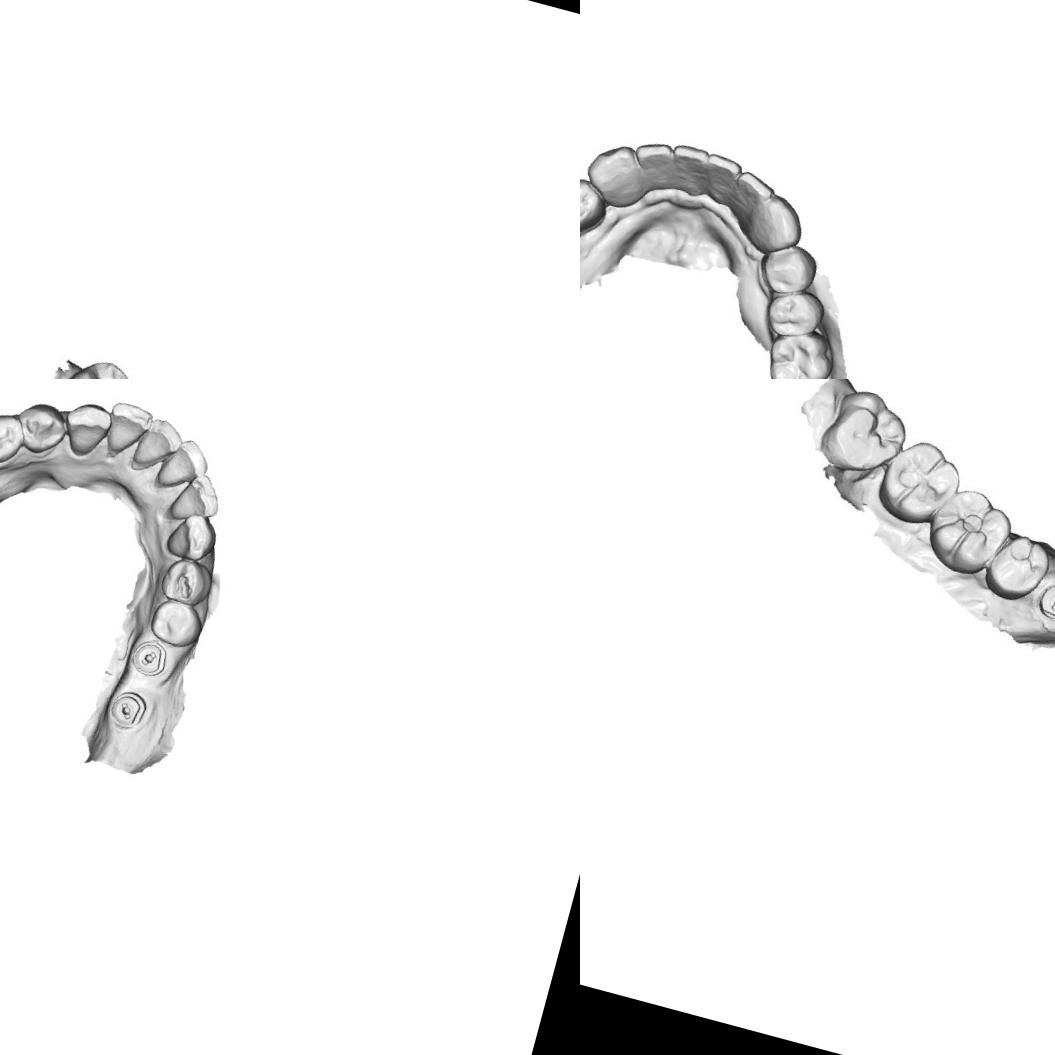canine: (580, 137, 651, 213), (742, 188, 809, 258), (56, 394, 115, 462), (160, 504, 224, 566)
implant_minus: (103, 686, 153, 734), (126, 636, 170, 681), (1030, 575, 1055, 632)
incisor: (164, 467, 226, 530), (154, 432, 214, 497), (98, 396, 155, 461), (130, 412, 187, 474), (662, 140, 712, 198), (626, 136, 676, 192), (697, 150, 744, 207), (730, 167, 778, 215)
molar: (816, 379, 919, 484), (870, 431, 963, 536), (920, 482, 1013, 582), (759, 322, 840, 379), (55, 351, 157, 379)
premolar: (980, 524, 1054, 602), (753, 236, 822, 302), (9, 396, 72, 460), (762, 285, 829, 345), (143, 593, 209, 653), (154, 552, 218, 609), (580, 169, 613, 236), (0, 403, 30, 471)
